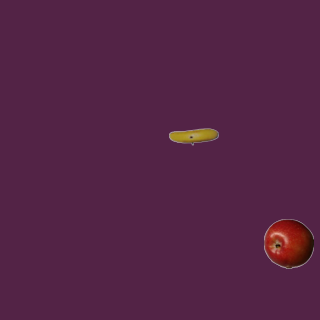Apple Braeburn: (263, 218, 313, 268)
Banana: (168, 111, 218, 161)
